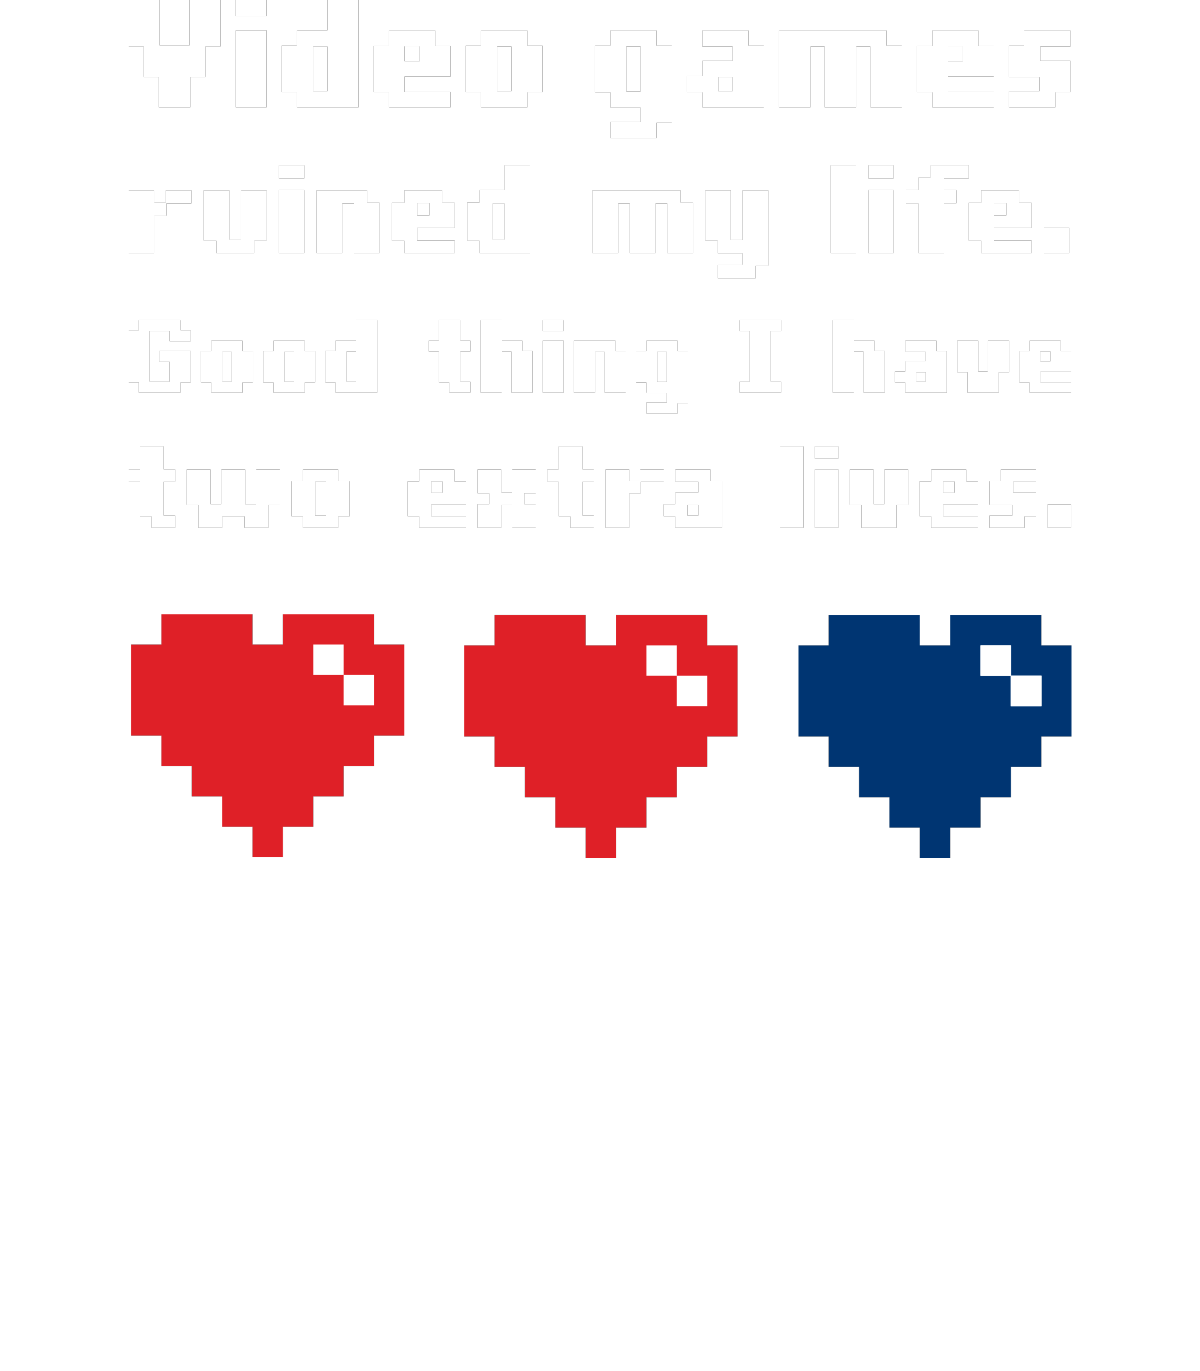design: (120, 1, 1109, 888)
